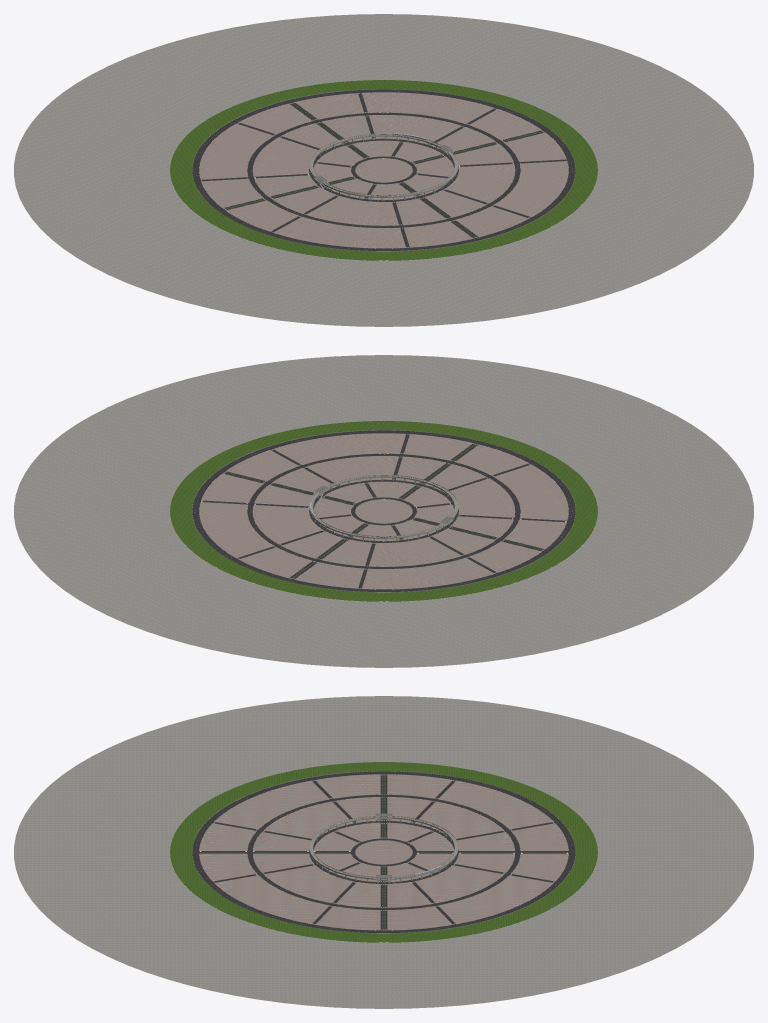
File: City_Roads.fbx
3 renders of one model, top to bottom at view 1: azimuth 30°, elevation 25°; view 2: azimuth 150°, elevation 25°; view 3: azimuth 270°, elevation 25°, orthographic.
Parts seen in each view (by area): view 1: Outskirts_Ground, Roads_Asphalt, Sidewalk_Outer_B07, Sidewalk_Outer_B01, Sidewalk_Outer_B04, Sidewalk_Outer_B10, Sidewalk_Mid_B07, Sidewalk_Mid_B10, Sidewalk_Mid_B04, Sidewalk_Mid_B01, Sidewalk_Outer_B00, Sidewalk_Outer_B02 (+21 smaller); view 2: Outskirts_Ground, Roads_Asphalt, Sidewalk_Outer_B04, Sidewalk_Outer_B10, Sidewalk_Outer_B07, Sidewalk_Outer_B01, Sidewalk_Mid_B04, Sidewalk_Mid_B01, Sidewalk_Mid_B07, Sidewalk_Mid_B10, Sidewalk_Outer_B11, Sidewalk_Outer_B03 (+22 smaller); view 3: Outskirts_Ground, Roads_Asphalt, Sidewalk_Outer_B04, Sidewalk_Outer_B07, Sidewalk_Outer_B01, Sidewalk_Outer_B10, Sidewalk_Mid_B01, Sidewalk_Mid_B10, Sidewalk_Mid_B04, Sidewalk_Mid_B07, Sidewalk_Outer_B02, Sidewalk_Outer_B09 (+23 smaller).
Boxes of the visible parts, x1,y1,x2,y2 form: Outskirts_Ground: [14, 14, 753, 326]; Roads_Asphalt: [192, 89, 575, 250]; Sidewalk_Outer_B07: [273, 216, 405, 248]; Sidewalk_Outer_B01: [362, 92, 494, 123]; Sidewalk_Outer_B04: [199, 123, 273, 179]; Sidewalk_Outer_B10: [494, 161, 568, 217]; Sidewalk_Mid_B07: [306, 196, 399, 225]; Sidewalk_Mid_B10: [445, 164, 515, 203]; Sidewalk_Mid_B04: [252, 137, 322, 176]; Sidewalk_Mid_B01: [369, 115, 461, 144]; Sidewalk_Outer_B00: [469, 109, 541, 140]; Sidewalk_Outer_B02: [295, 93, 363, 119]; Outskirts_Ground: [14, 355, 753, 667]; Roads_Asphalt: [192, 430, 575, 591]; Sidewalk_Outer_B04: [362, 557, 494, 589]; Sidewalk_Outer_B10: [273, 433, 405, 464]; Sidewalk_Outer_B07: [494, 464, 568, 520]; Sidewalk_Outer_B01: [199, 502, 273, 558]; Sidewalk_Mid_B04: [368, 537, 461, 566]; Sidewalk_Mid_B01: [252, 505, 322, 544]; Sidewalk_Mid_B07: [445, 478, 515, 517]; Sidewalk_Mid_B10: [306, 456, 398, 485]; Sidewalk_Outer_B11: [226, 450, 298, 481]; Sidewalk_Outer_B03: [295, 562, 364, 588]; Outskirts_Ground: [14, 696, 753, 1008]; Roads_Asphalt: [192, 771, 575, 932]; Sidewalk_Outer_B04: [438, 780, 553, 829]; Sidewalk_Outer_B07: [214, 780, 329, 829]; Sidewalk_Outer_B01: [438, 875, 553, 924]; Sidewalk_Outer_B10: [214, 875, 329, 924]; Sidewalk_Mid_B01: [414, 865, 503, 903]; Sidewalk_Mid_B10: [264, 865, 353, 903]; Sidewalk_Mid_B04: [414, 801, 504, 838]; Sidewalk_Mid_B07: [263, 801, 353, 838]; Sidewalk_Outer_B02: [511, 853, 568, 881]; Sidewalk_Outer_B09: [199, 853, 256, 881].
Bounding box in the file's own units: 1800 × 18.4 × 1799.
